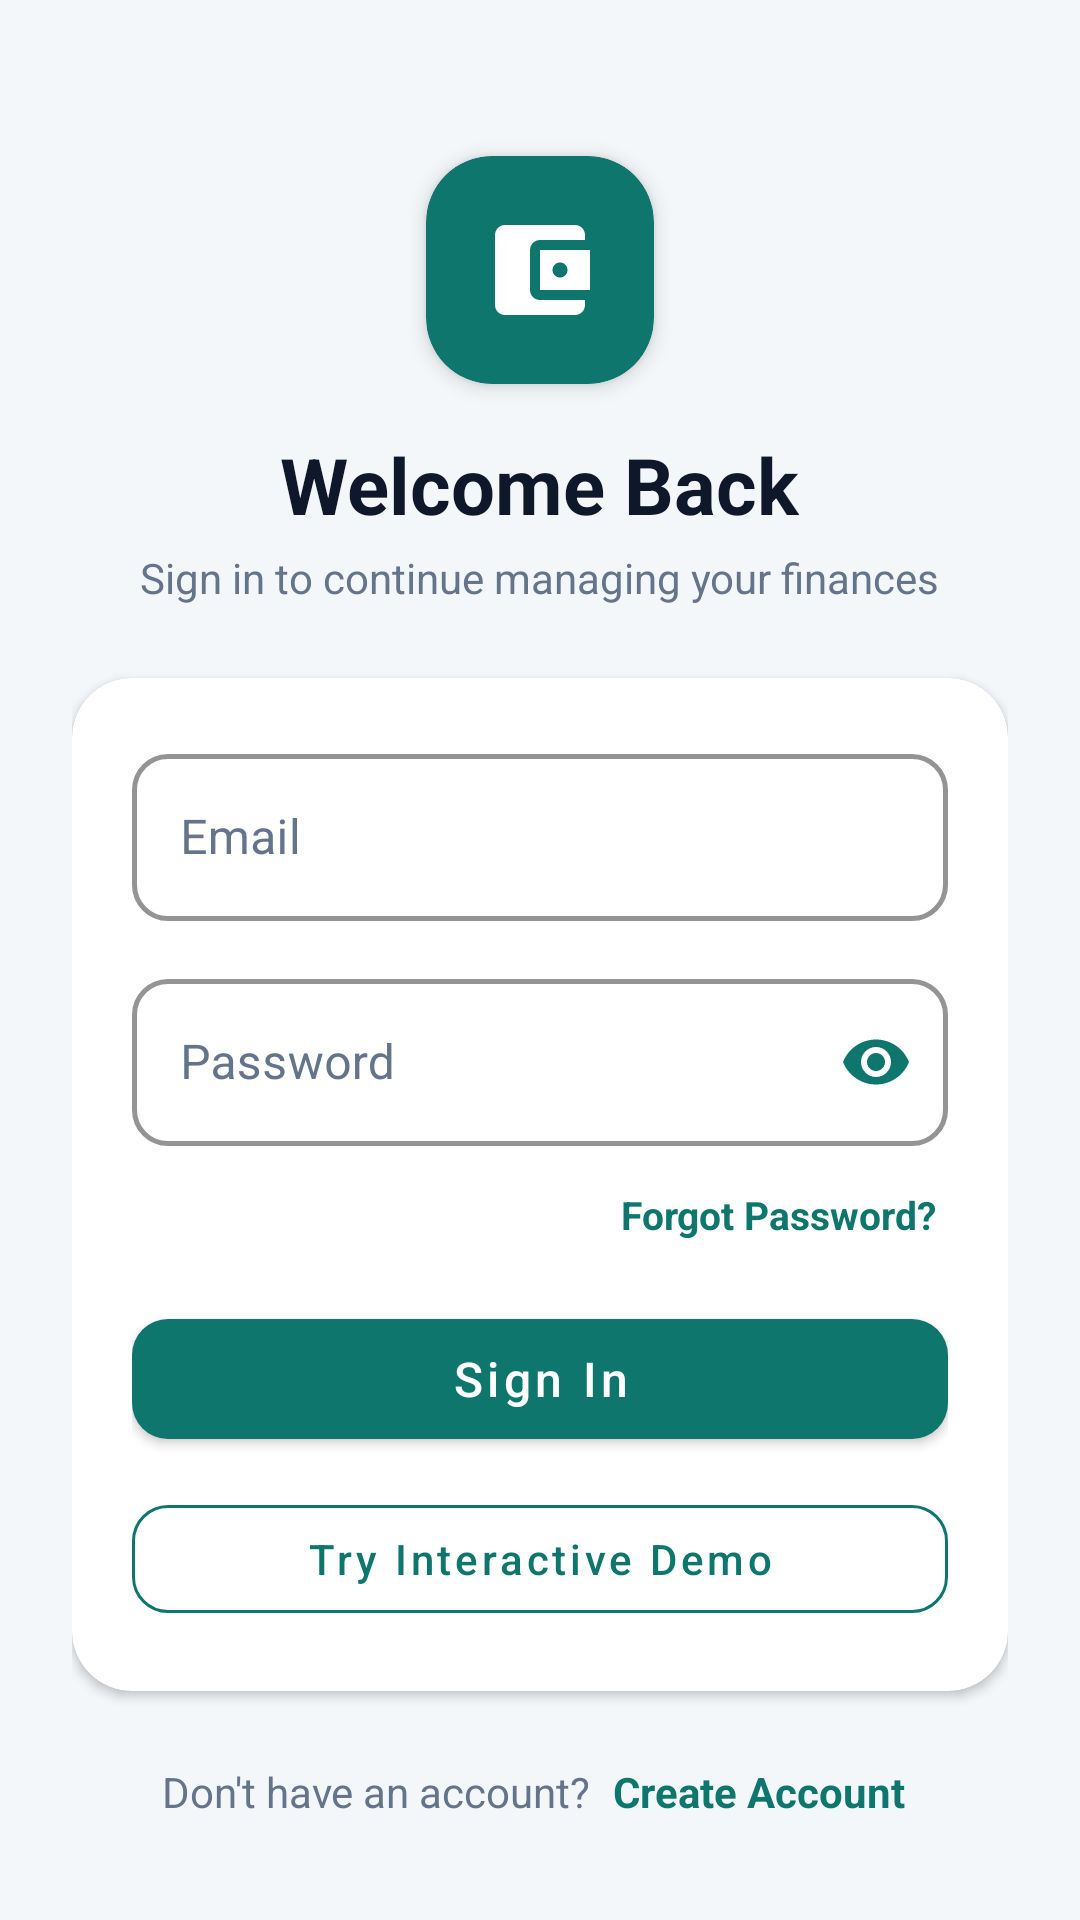

Where to tap for icons on this 1080x1920 app screen, as (x=x, y=y):
wallet: (x=542, y=270)
